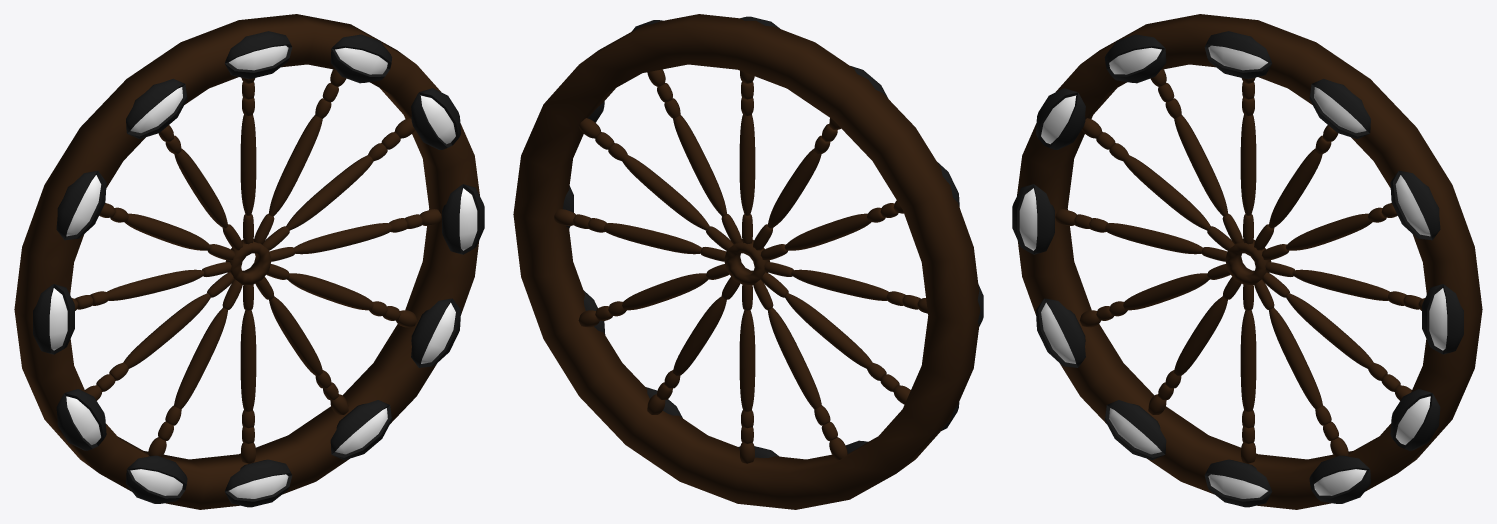
File: BossWheelSplitBigRush.FBX
The picture shows the model from 3 angles, left to right: view 1: azimuth 30°, elevation 25°; view 2: azimuth 150°, elevation 25°; view 3: azimuth 330°, elevation 25°; orthographic projection.
Parts seen in each view (by area): view 1: wheelOuter; view 2: wheelOuter; view 3: wheelOuter.
Boxes of the visible parts, left/top/right/bottom form: wheelOuter: left=14, top=14, right=484, bottom=509; wheelOuter: left=513, top=14, right=983, bottom=509; wheelOuter: left=1012, top=14, right=1482, bottom=509.
Bounding box in the file's own units: 123 × 123 × 12.23.
